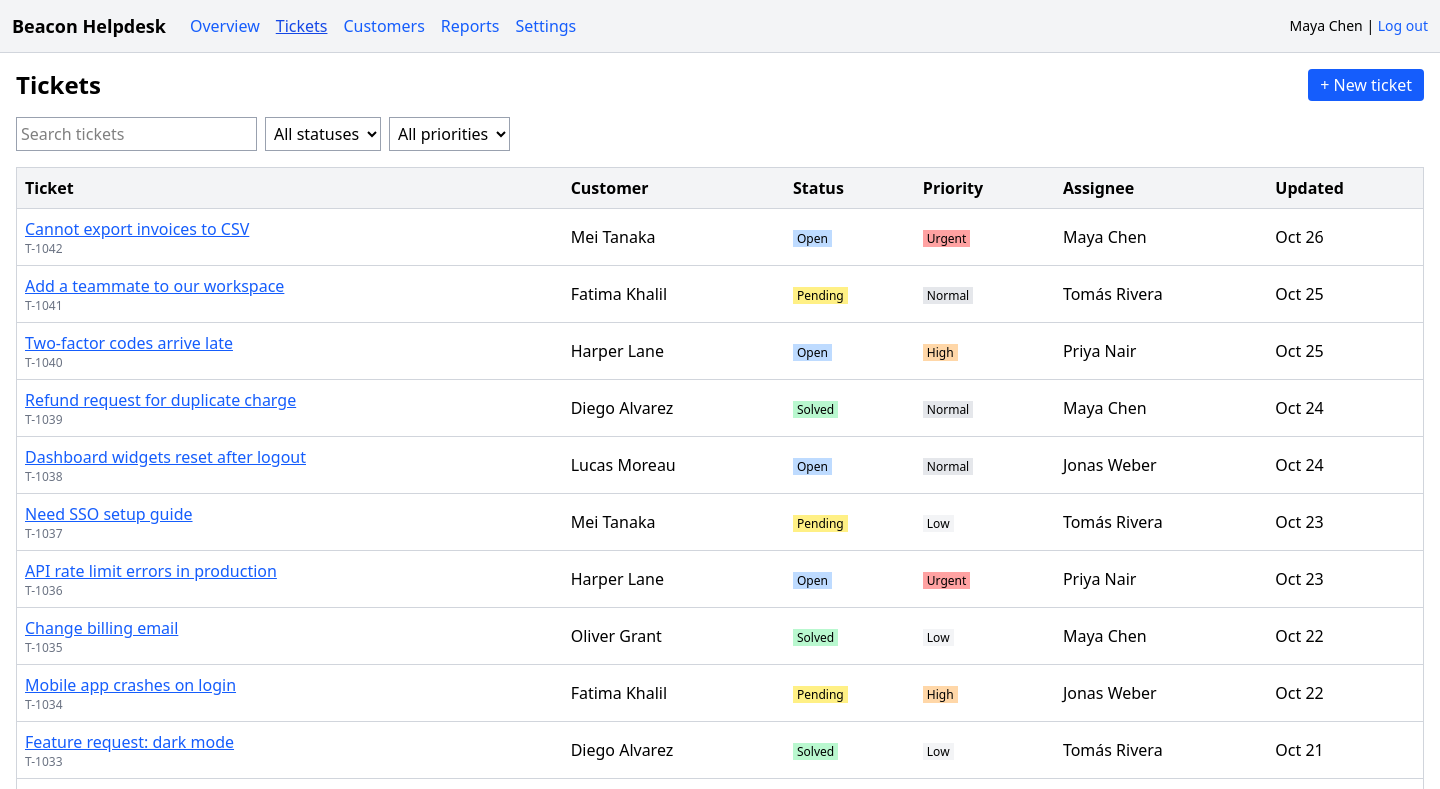
Test case: tickets › filters by status and priority, shows an empty state, and clears
Check: the link "Cannot export invoices to CSV" is shown, box [25, 218, 249, 240]
Select "Solved" in the 1st dropdown named "Status": (323, 134) [265, 117, 381, 151]
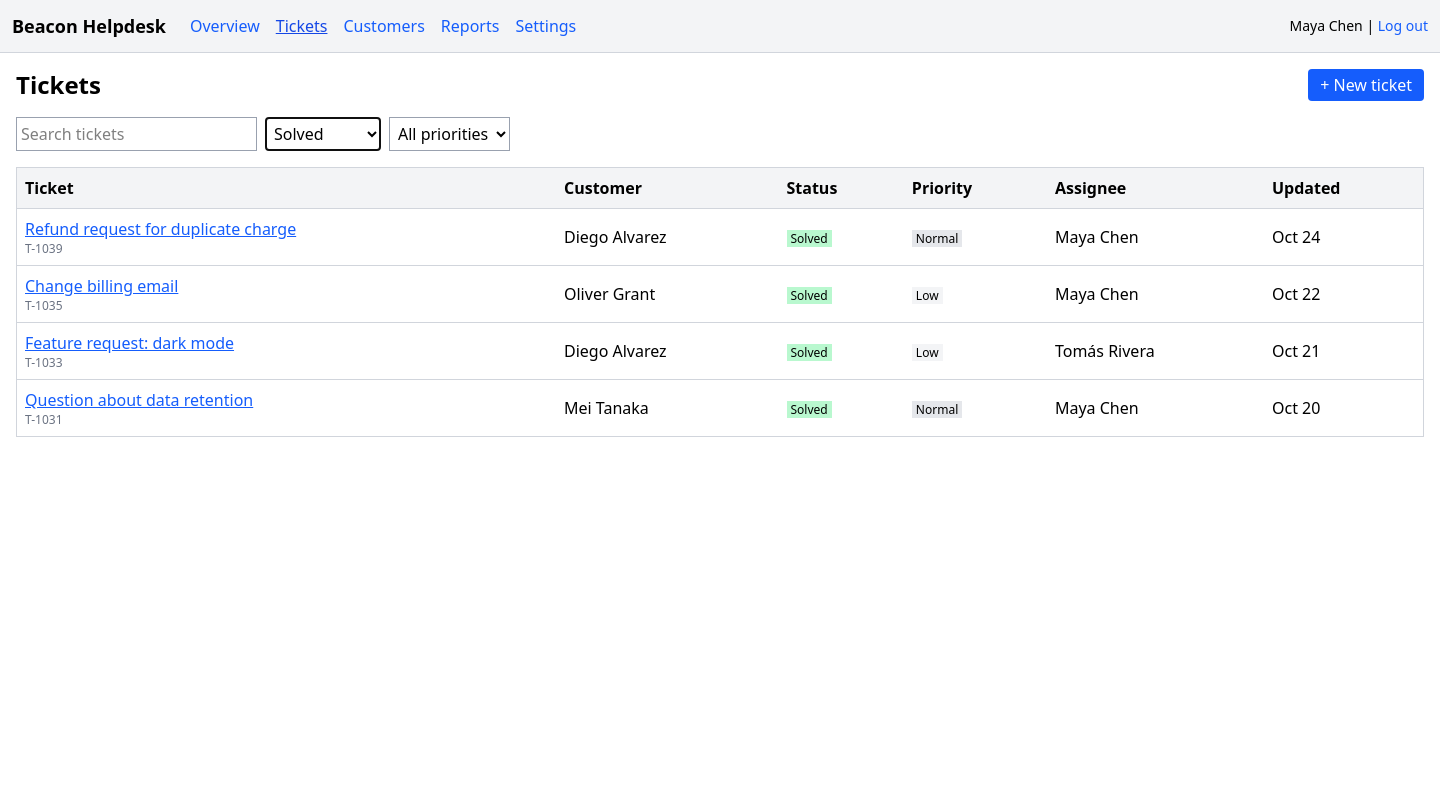
Check: the link "Change billing email" is shown, box [25, 275, 178, 297]
Check: the link "Cannot export invoices to CSV" is gone
Select "Urgent" in the 2nd dropdown named "Priority": (450, 134) [389, 117, 510, 151]
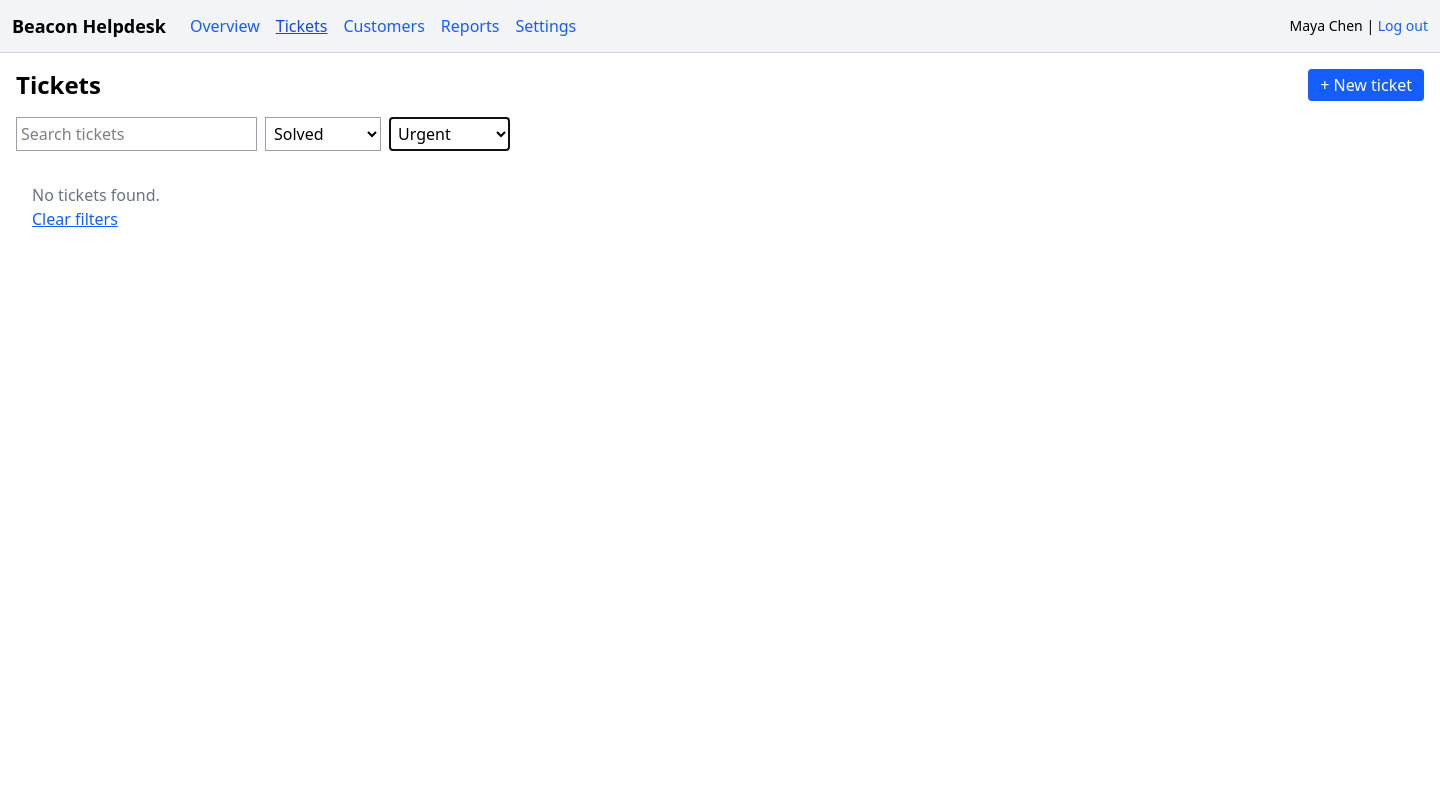
Check: the text "No tickets found." is shown, box [32, 184, 160, 206]
Click the button "Clear filters": (75, 219) [32, 207, 118, 231]
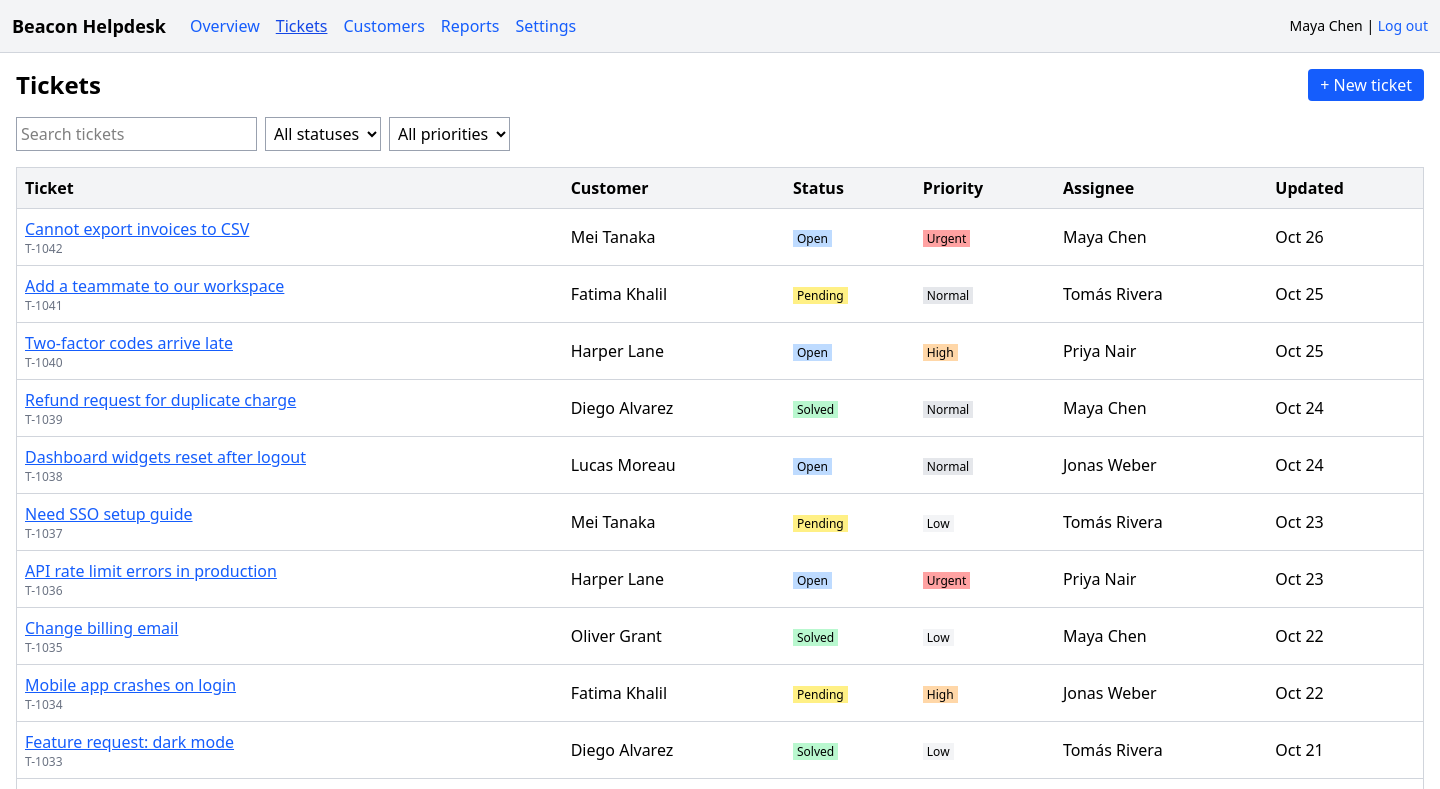
Check: the link "Cannot export invoices to CSV" is shown, box [25, 218, 249, 240]
